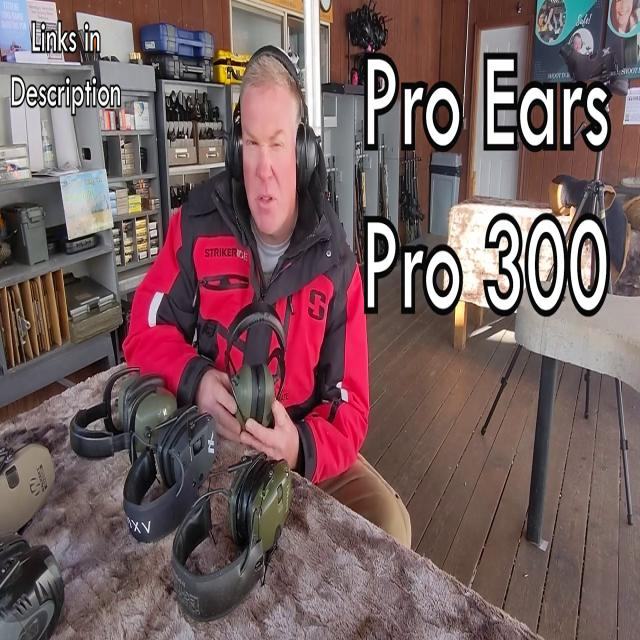earmuff: (288, 114, 320, 196), (220, 112, 246, 186)
